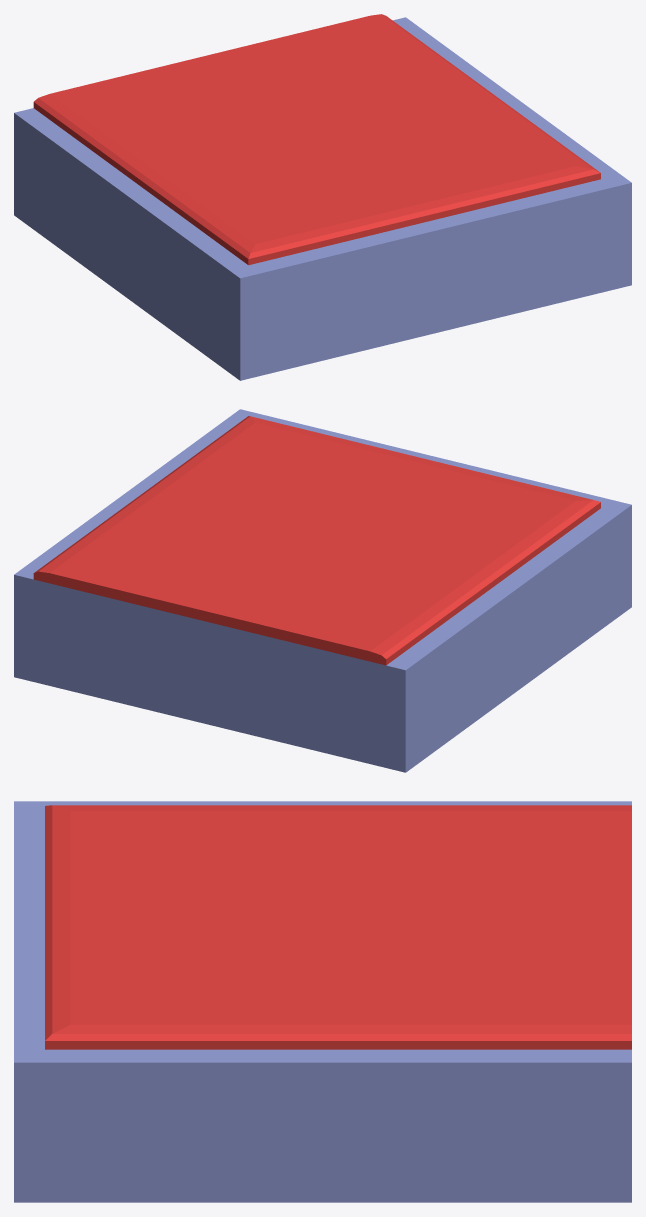
File: tilePathEnd.fbx
The picture shows the model from 3 angles, top to bottom: view 1: azimuth 30°, elevation 25°; view 2: azimuth 150°, elevation 25°; view 3: azimuth 270°, elevation 25°; orthographic projection. The views are drawn at different scales.
Visible parts, largest first — view 1: tilePathEnd; view 2: tilePathEnd; view 3: tilePathEnd.
Part boxes in pixels (x1,y1,x2,y2): tilePathEnd: (14, 14, 631, 380); tilePathEnd: (14, 409, 631, 772); tilePathEnd: (14, 801, 631, 1202).
Bounding box in the file's own units: 400 × 110 × 400.
